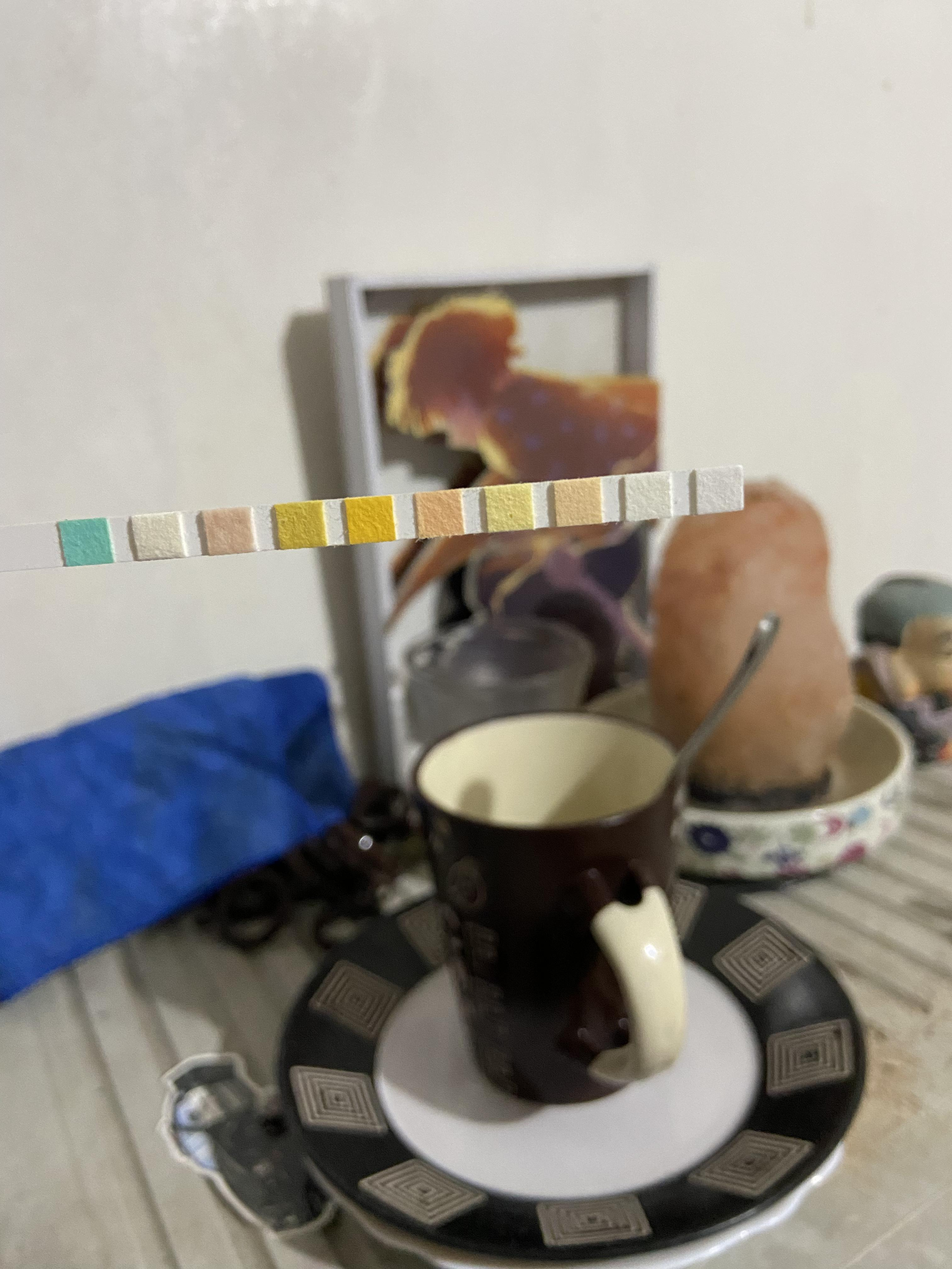Bilirubin: (141, 518, 180, 556)
Blood: (351, 501, 391, 539)
Glucose: (68, 521, 107, 561)
Ketone: (210, 513, 249, 551)
Leukocytes: (700, 473, 740, 510)
Nitrite: (630, 478, 668, 516)
Protein: (491, 489, 529, 527)
SpGravity: (282, 506, 322, 546)
Urobilinogen: (560, 483, 598, 521)
pH: (420, 495, 459, 533)
strip: (1, 466, 745, 571)
